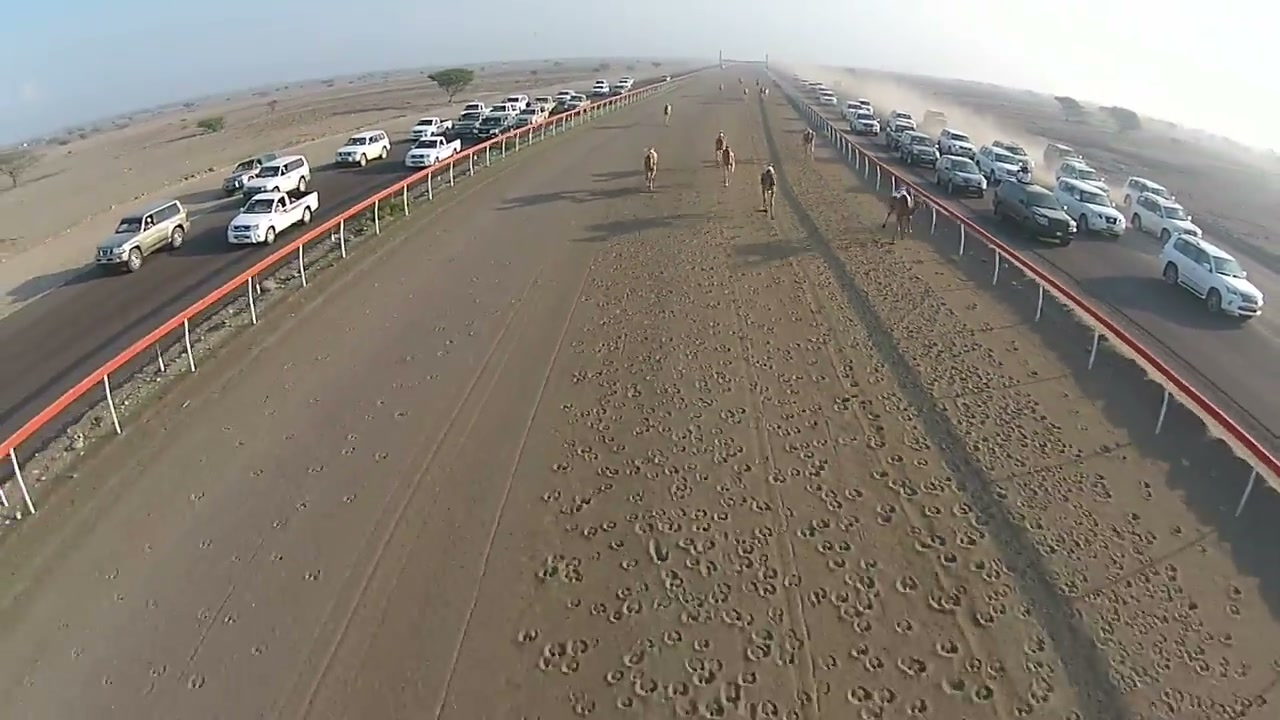animal_foot_print: (503, 164, 1269, 717), (782, 149, 1275, 716), (516, 259, 983, 716), (514, 272, 853, 717)
